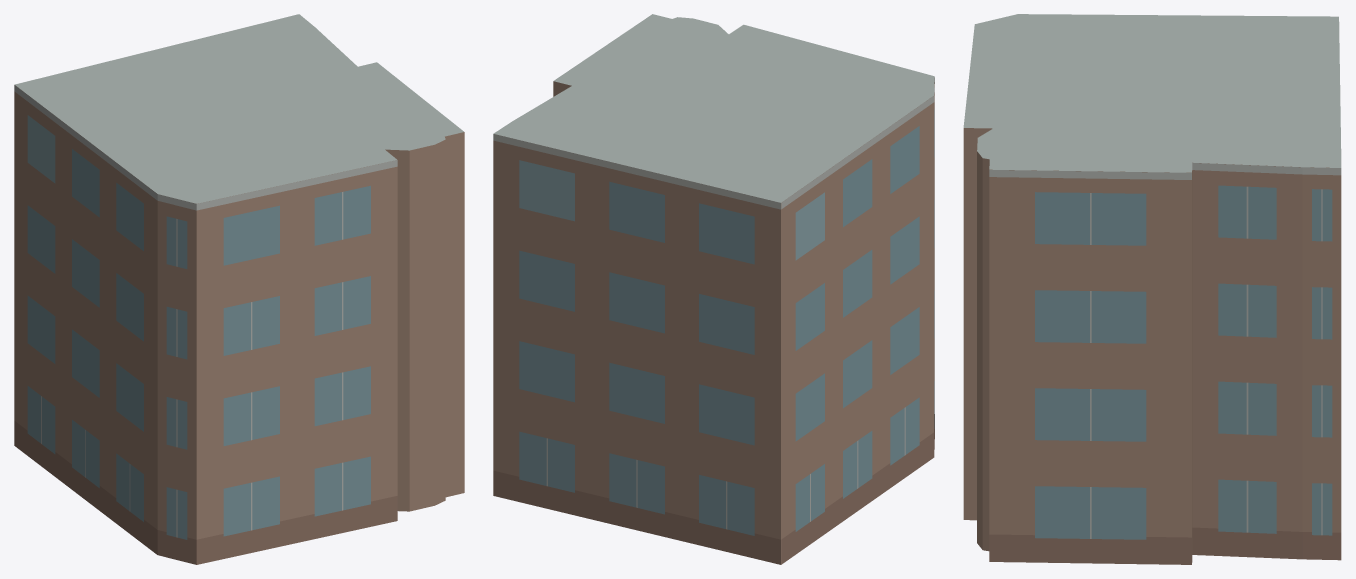
The model's file is survey-upis-32971026.glb.
3 renders of one model, left to right at view 1: azimuth 30°, elevation 25°; view 2: azimuth 150°, elevation 25°; view 3: azimuth 270°, elevation 25°, orthographic. The views are drawn at different scales.
Visible parts, largest first — view 1: survey-upis-32971026.tmp; view 2: survey-upis-32971026.tmp; view 3: survey-upis-32971026.tmp.
Boxes of the visible parts, bbox=[...] form: survey-upis-32971026.tmp: bbox=[14, 14, 464, 564]; survey-upis-32971026.tmp: bbox=[493, 14, 934, 564]; survey-upis-32971026.tmp: bbox=[963, 14, 1341, 564].
Size of the model in its own units: 11.39 by 13.1 by 11.46.
